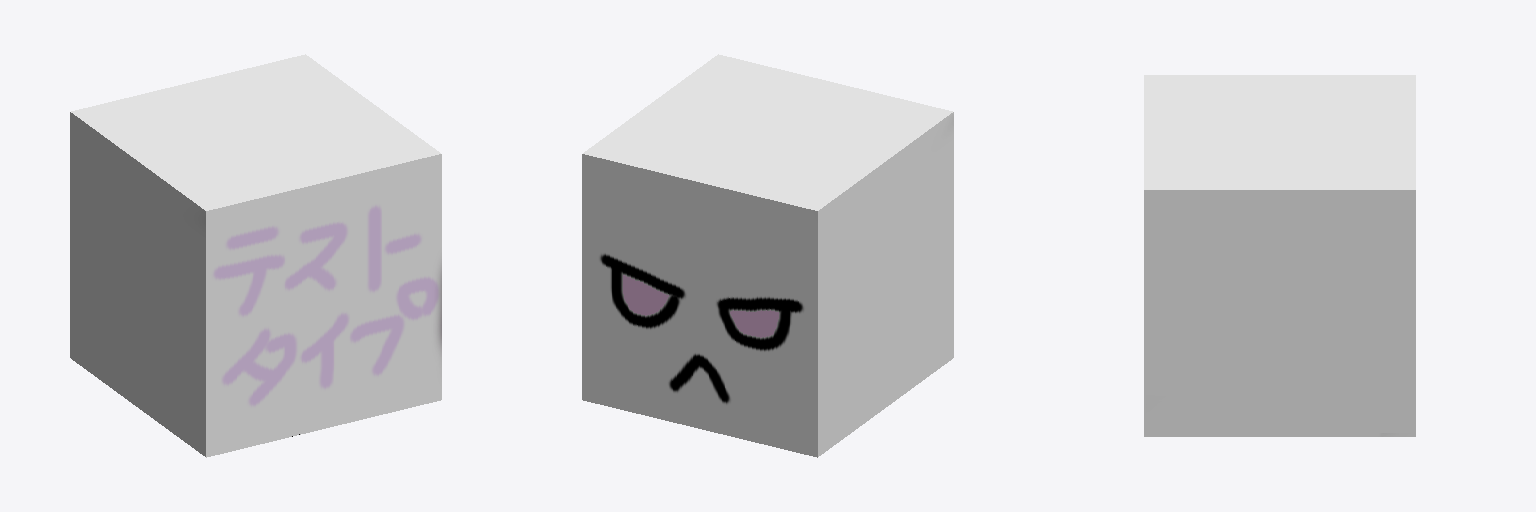
The picture shows the model from 3 angles: view 1: azimuth 30°, elevation 25°; view 2: azimuth 150°, elevation 25°; view 3: azimuth 270°, elevation 25°; orthographic projection.
Parts seen in each view (by area): view 1: head_立方体; view 2: head_立方体; view 3: head_立方体.
Boxes of the visible parts, <box> form: head_立方体: <box>70,54,441,457</box>; head_立方体: <box>582,54,953,457</box>; head_立方体: <box>1144,75,1415,436</box>.
Size of the model in its own units: 2 by 2 by 2.
1 materials, 1 textured.